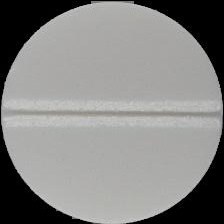10544-125: (0, 0, 224, 224)
